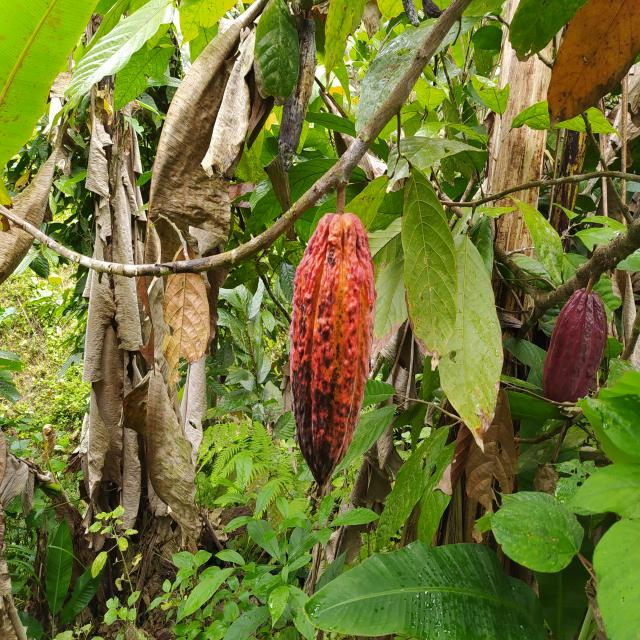Fitoftora: (289, 208, 380, 496)
Sana: (542, 292, 610, 406)
